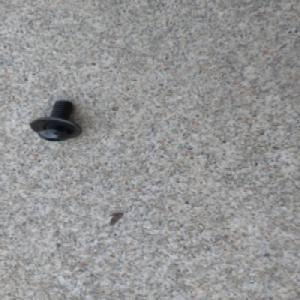BoltWasher: (26, 97, 86, 142)
